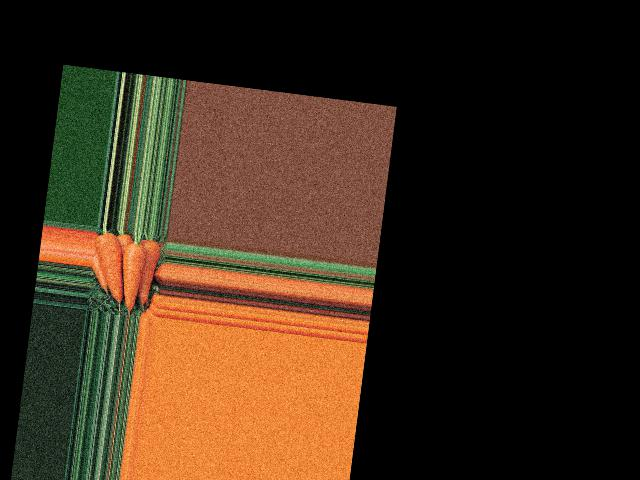carrot: (90, 232, 131, 305)
